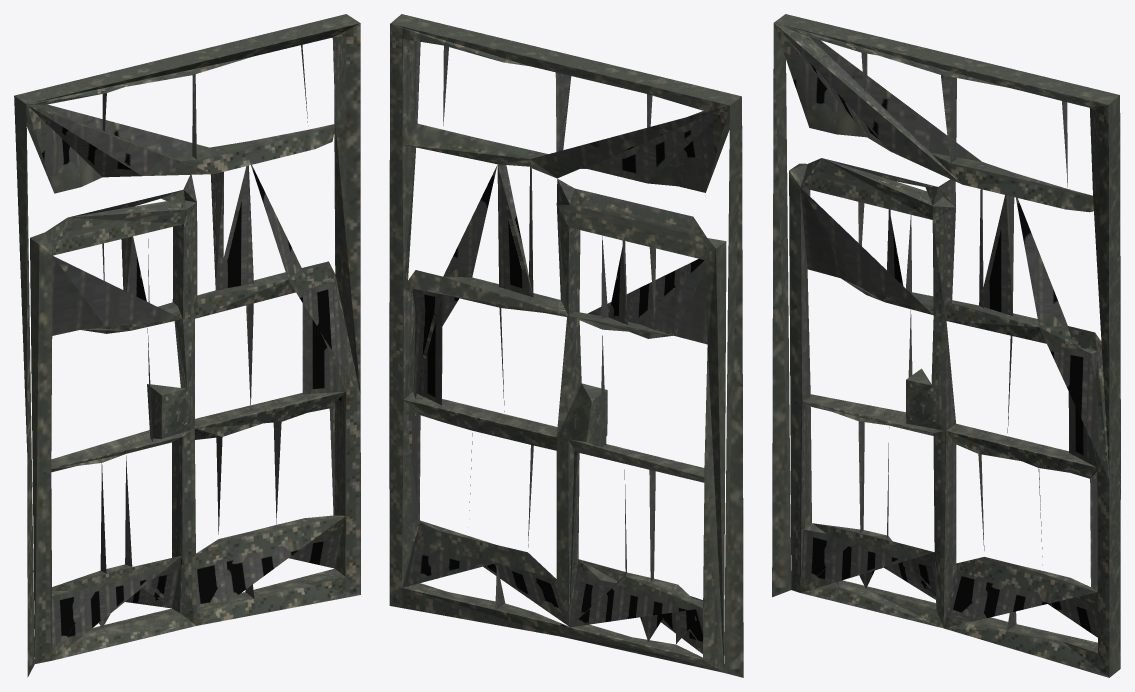
Rendered from Meshy_AI_model.glb.
3 views of the same model, side by side, from view 1: azimuth 30°, elevation 25°; view 2: azimuth 150°, elevation 25°; view 3: azimuth 330°, elevation 25° (orthographic).
Parts seen in each view (by area): view 1: output_unwrapped; view 2: output_unwrapped; view 3: output_unwrapped.
Boxes of the visible parts, bbox=[...] form: output_unwrapped: bbox=[14, 14, 360, 677]; output_unwrapped: bbox=[389, 14, 743, 677]; output_unwrapped: bbox=[772, 14, 1120, 677].
Size of the model in its own units: 1.16 by 1.9 by 0.0977.
Materials: 1 (1 with a texture image).
